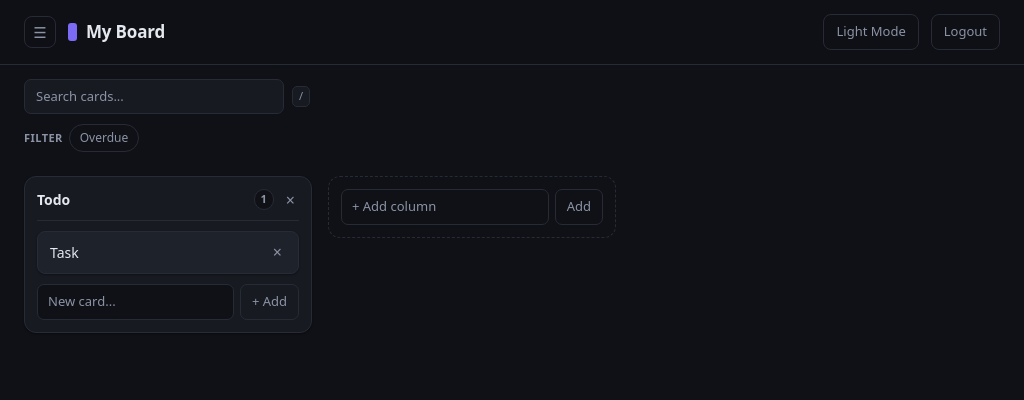
logout › clears the token, drops the socket and returns to the login form
Expected: the heading "Todo" is shown, [37,190,70,209]
Click the button "Logout". click: (965, 32)
box: [931,14,1000,50]
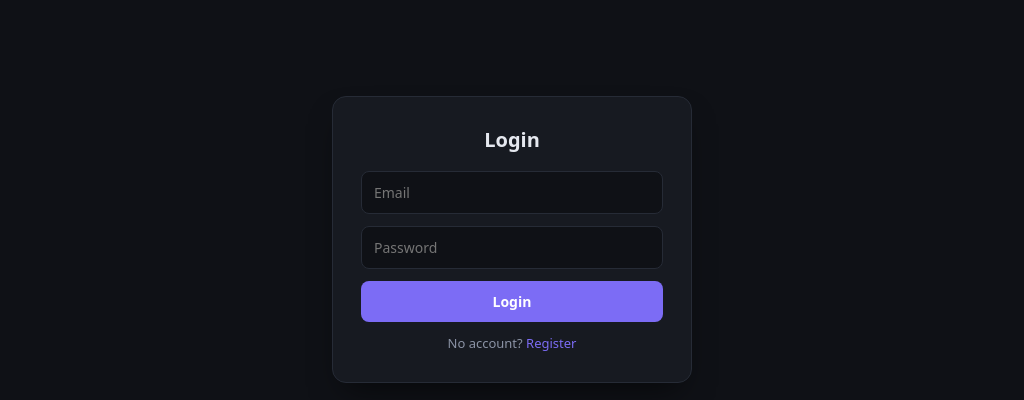
Expected: the heading "Login" is shown, [484,126,540,153]
